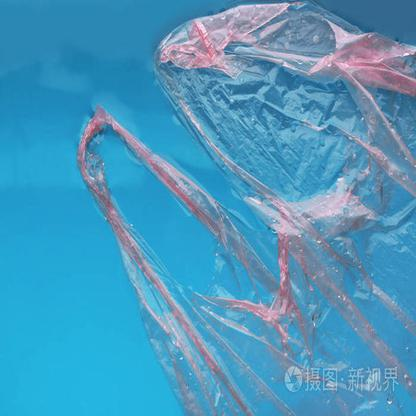plastic bag: (76, 1, 416, 414)
